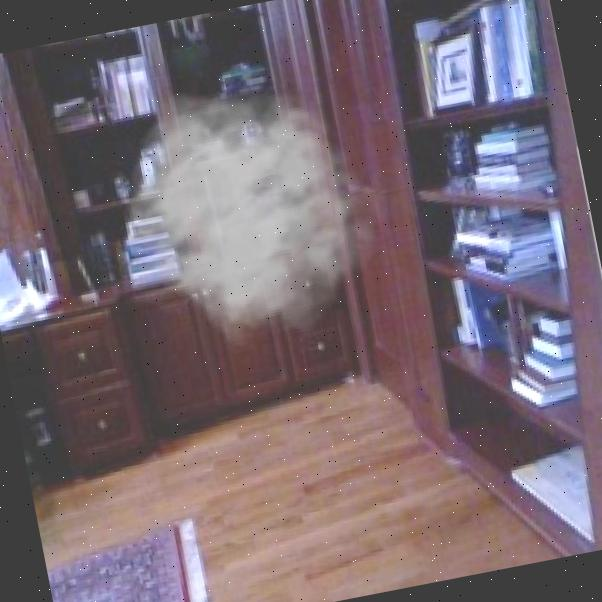smoke: (99, 58, 405, 368)
